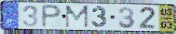2: (138, 6, 158, 30)
3: (117, 6, 136, 30), (90, 6, 108, 29), (22, 5, 39, 27)
M: (64, 5, 90, 29)
P: (41, 3, 64, 29)
